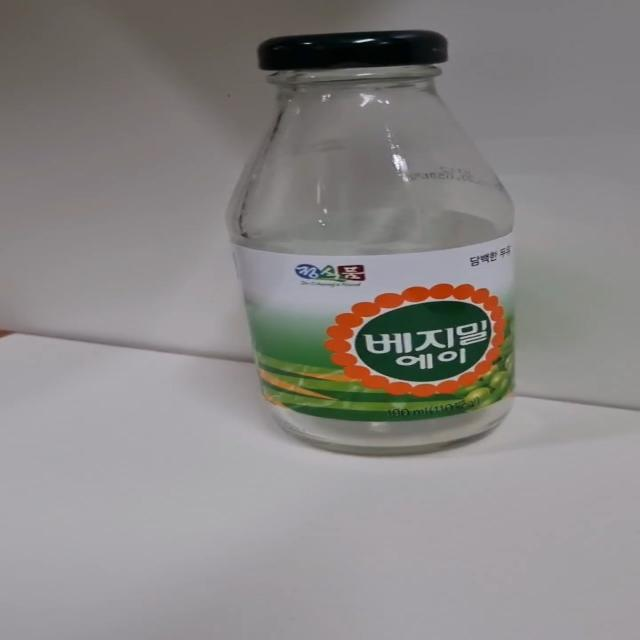Glass: (224, 30, 517, 458)
